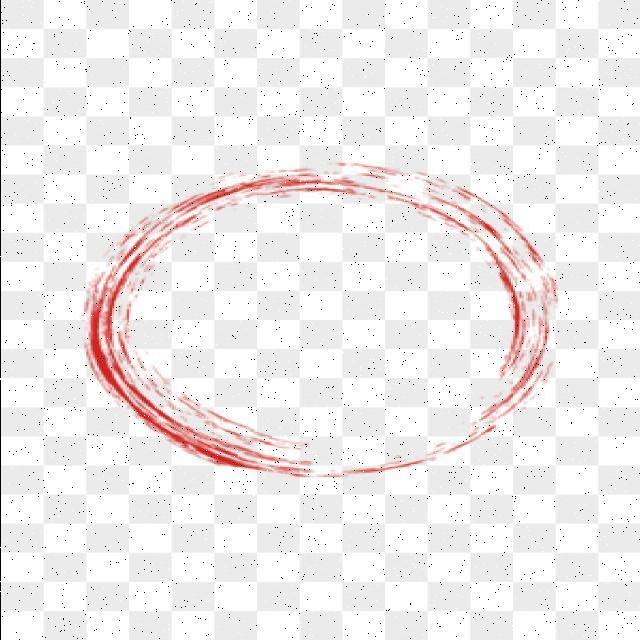Circle: (77, 158, 563, 482)
